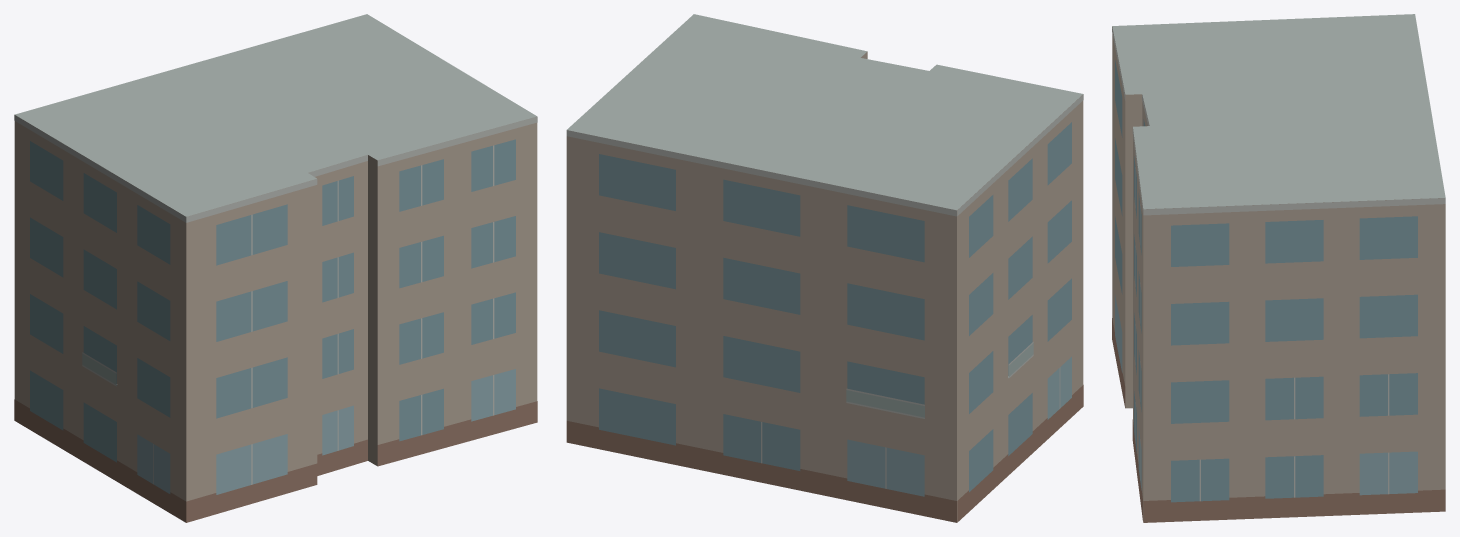
File: survey-upis-32953480.glb
The picture shows the model from 3 angles, left to right: view 1: azimuth 30°, elevation 25°; view 2: azimuth 150°, elevation 25°; view 3: azimuth 270°, elevation 25°; orthographic projection. The views are drawn at different scales.
Visible parts, largest first — view 1: survey-upis-32953480.tmp; view 2: survey-upis-32953480.tmp; view 3: survey-upis-32953480.tmp.
Boxes of the visible parts, x1,y1,x2,y2 form: survey-upis-32953480.tmp: (14, 14, 537, 522); survey-upis-32953480.tmp: (566, 14, 1083, 522); survey-upis-32953480.tmp: (1112, 14, 1445, 522).
Bounding box in the file's own units: 16.43 × 12.3 × 11.86.
